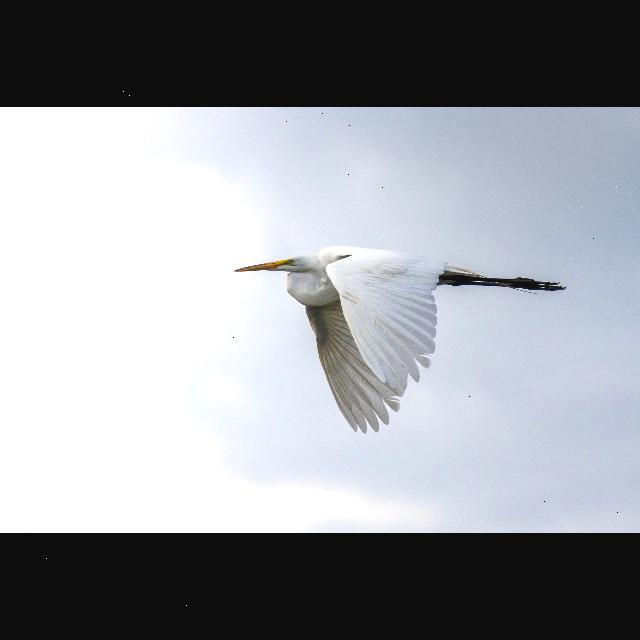egret: (229, 240, 576, 424)
